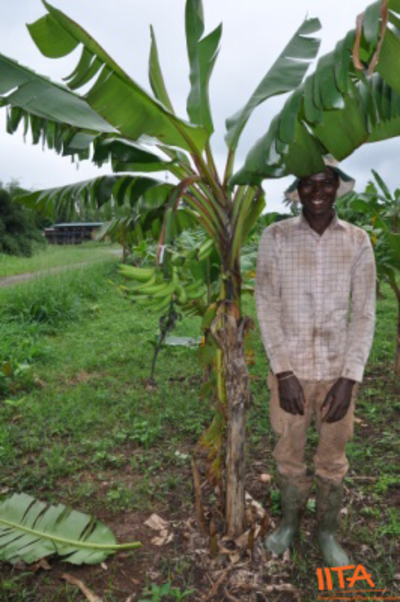bananaHand: (118, 231, 225, 326)
